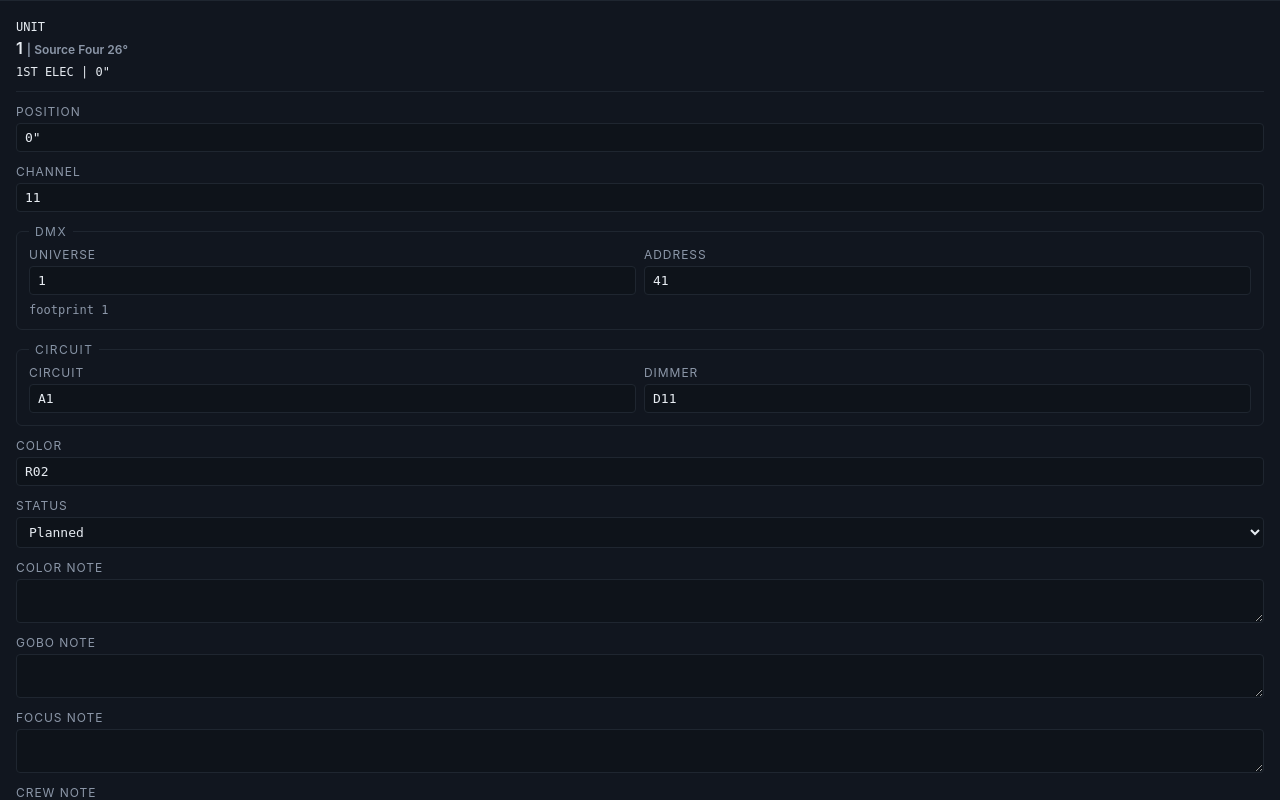
Scenario: Inspector › shows invalid position input without committing
This screenshot has width=1280, height=800.
Replace the text in the field labelled "Position" with "downstage a bit" at coordinates (640, 138), box [16,123,1264,152]
Wait 450 ms
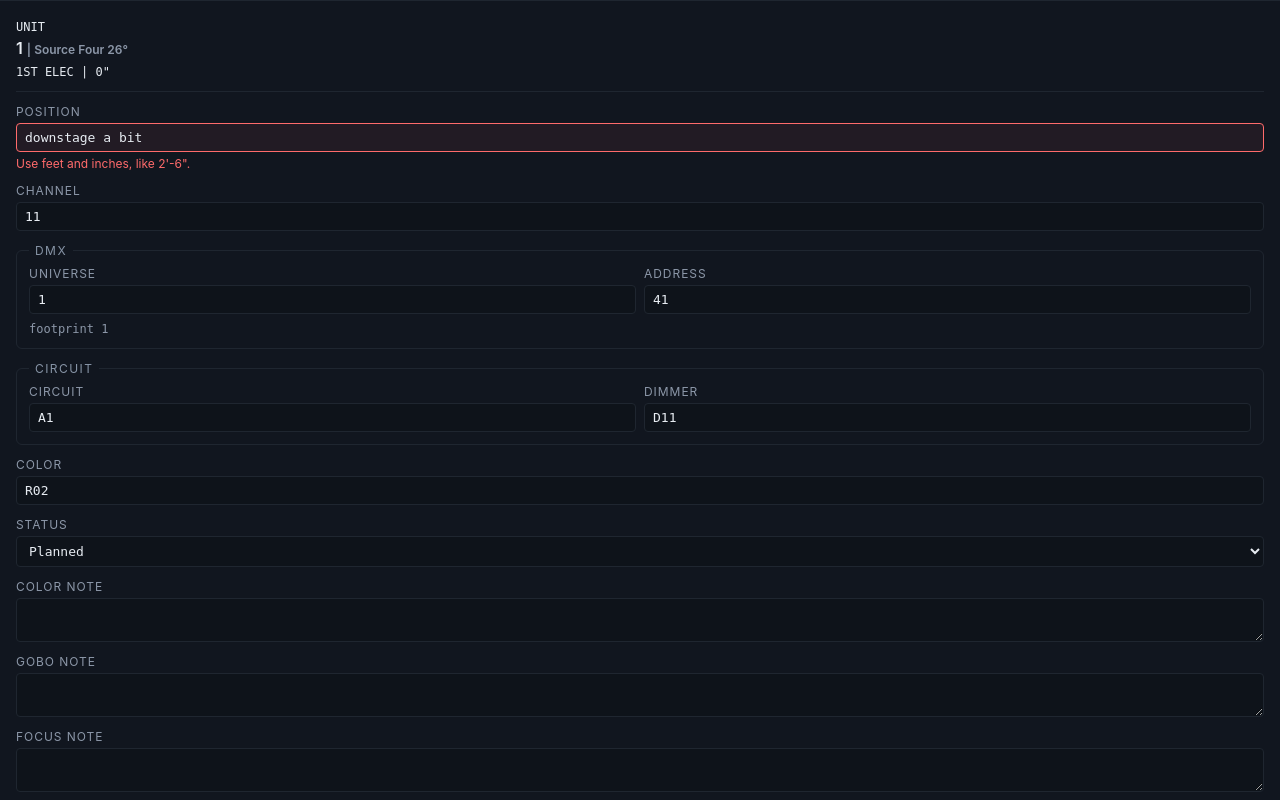
Expected: the text "Use feet and inches, like 2'-6\"." is shown, [16,156,190,171]
